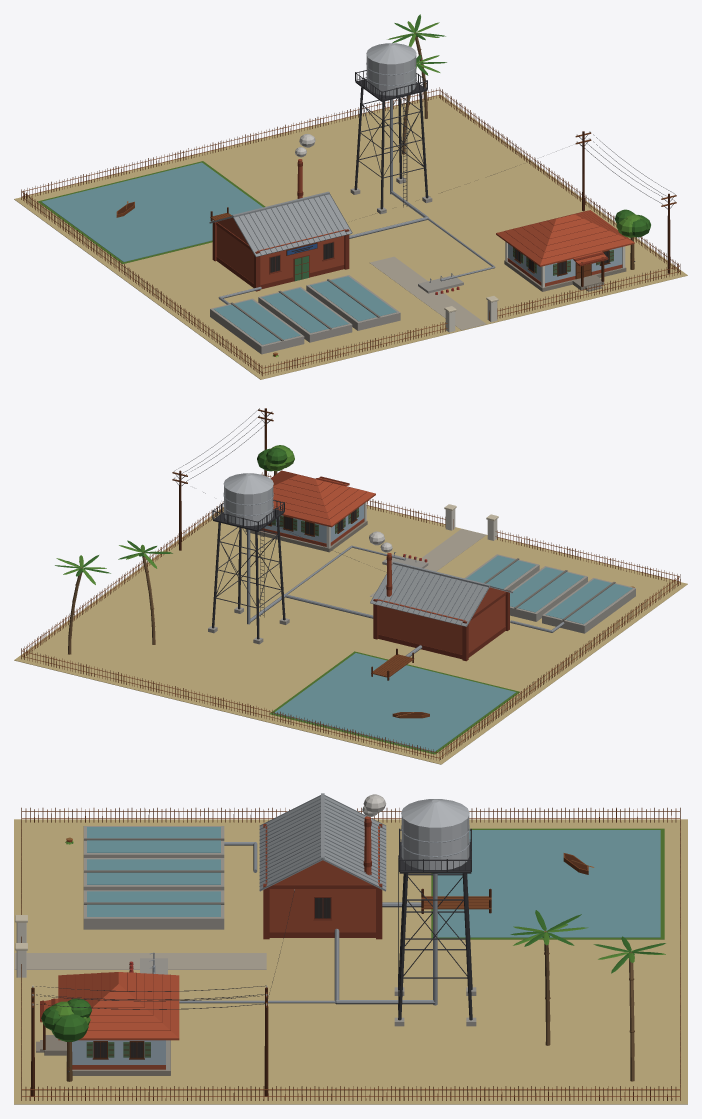
Rendered from water_works.glb.
3 views of the same model, one above another, from view 1: azimuth 30°, elevation 25°; view 2: azimuth 150°, elevation 25°; view 3: azimuth 270°, elevation 25° (orthographic). The views are drawn at different scales.
Parts seen in each view (by area): view 1: body, windows; view 2: body; view 3: body, windows.
Part boxes in pixels (x1,y1,x2,y2): body: (14,14,687,379); windows: (270,242,608,274); body: (14,408,687,764); body: (14,793,687,1104); windows: (94,898,330,1057).
Bounding box in the file's own units: 47.9 × 16.67 × 47.9.
